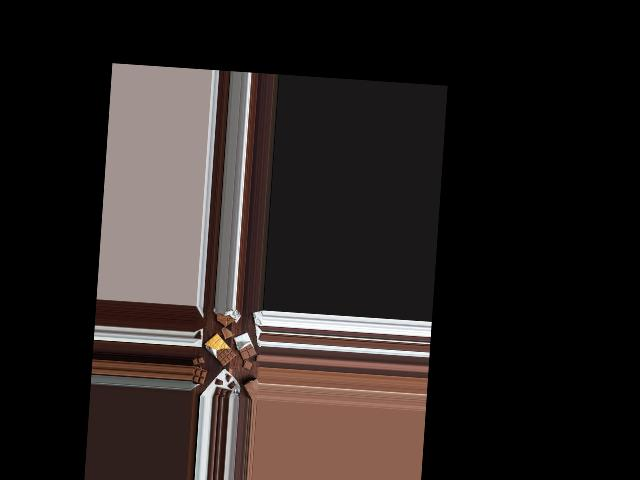chocolate: (231, 333, 260, 360)
